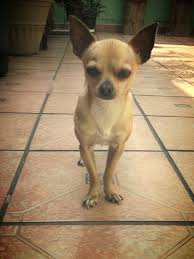chihuahua: (51, 12, 170, 219)
